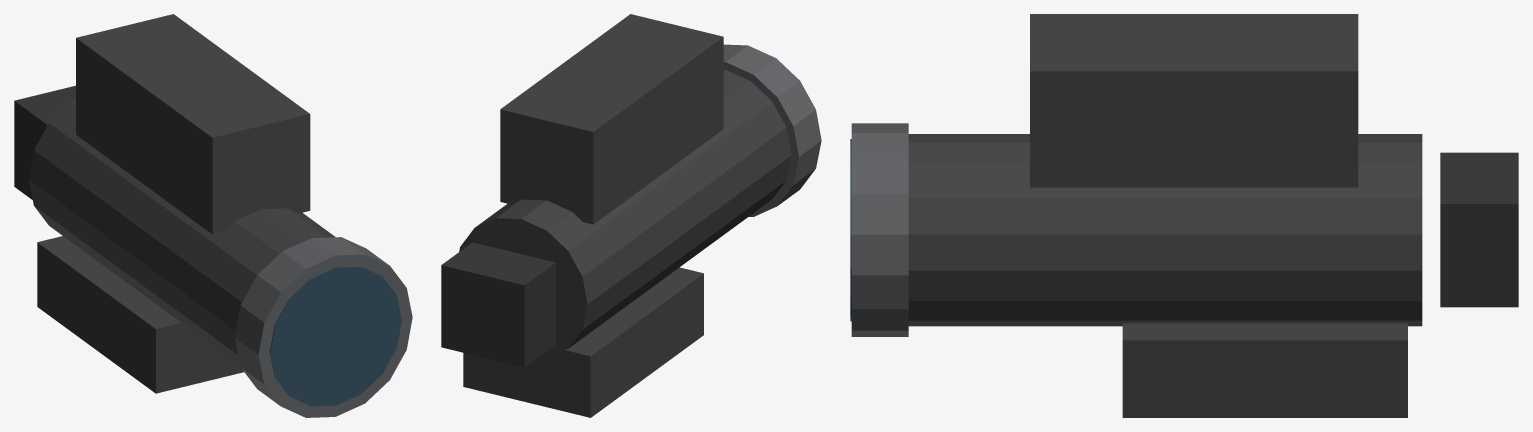
The model's file is tactical_light.glb.
3 views of the same model, side by side, from view 1: azimuth 30°, elevation 25°; view 2: azimuth 150°, elevation 25°; view 3: azimuth 270°, elevation 25° (orthographic). The views are drawn at different scales.
Visible parts, largest first — view 1: tl_laser, tl_body, tl_clamp, tl_lens, tl_bezel, tl_switch; view 2: tl_laser, tl_body, tl_clamp, tl_switch, tl_bezel; view 3: tl_body, tl_laser, tl_clamp, tl_bezel, tl_switch.
Boxes of the visible parts, <box> form: tl_laser: <box>76,14,310,234</box>; tl_body: <box>28,100,335,365</box>; tl_clamp: <box>37,236,243,393</box>; tl_lens: <box>269,266,401,406</box>; tl_bezel: <box>234,237,412,417</box>; tl_switch: <box>14,85,75,199</box>; tl_laser: <box>500,14,723,224</box>; tl_body: <box>459,69,791,358</box>; tl_clamp: <box>463,267,703,417</box>; tl_switch: <box>441,242,555,367</box>; tl_bezel: <box>723,44,821,216</box>; tl_body: <box>908,134,1422,326</box>; tl_laser: <box>1030,14,1358,187</box>; tl_clamp: <box>1122,323,1407,417</box>; tl_bezel: <box>851,123,908,336</box>; tl_switch: <box>1440,152,1518,307</box>.
Bounding box in the file's own units: 0.03 × 0.052 × 0.0937.
